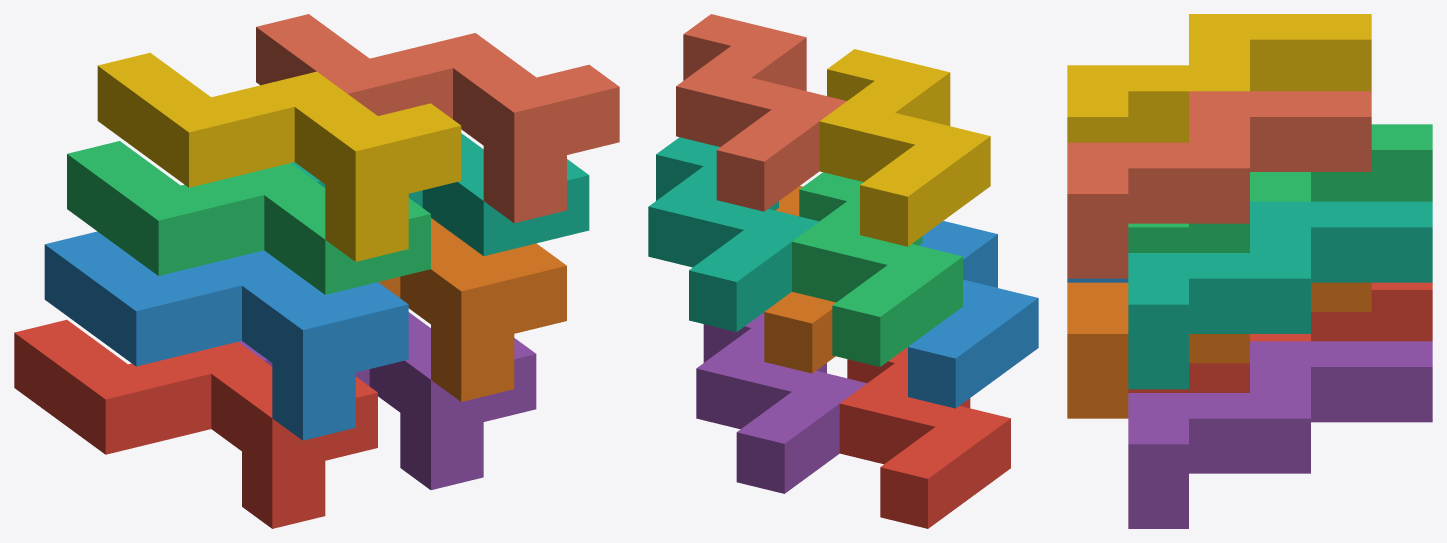
File: tiling.obj
The picture shows the model from 3 angles, left to right: view 1: azimuth 30°, elevation 25°; view 2: azimuth 150°, elevation 25°; view 3: azimuth 270°, elevation 25°; orthographic projection. The views are drawn at different scales.
Parts seen in each view (by area): view 1: copy_1_domain_4, copy_1_domain_2, copy_1_domain_1, copy_1_domain_8, copy_1_domain_3, copy_1_domain_6, copy_1_domain_5, copy_1_domain_7; view 2: copy_1_domain_4, copy_1_domain_8, copy_1_domain_3, copy_1_domain_1, copy_1_domain_7, copy_1_domain_5, copy_1_domain_2, copy_1_domain_6; view 3: copy_1_domain_7, copy_1_domain_8, copy_1_domain_5, copy_1_domain_4, copy_1_domain_6, copy_1_domain_3, copy_1_domain_1.
Part boxes in pixels (box(x1,y1,x2,y2)): copy_1_domain_4: box(97, 52, 461, 261); copy_1_domain_2: box(44, 231, 408, 440); copy_1_domain_1: box(14, 319, 377, 528); copy_1_domain_8: box(256, 14, 619, 223); copy_1_domain_3: box(67, 141, 430, 294); copy_1_domain_6: box(378, 218, 566, 401); copy_1_domain_5: box(238, 312, 536, 489); copy_1_domain_7: box(291, 133, 589, 255); copy_1_domain_4: box(819, 49, 990, 246); copy_1_domain_8: box(676, 14, 846, 211); copy_1_domain_3: box(792, 172, 962, 366); copy_1_domain_1: box(839, 347, 1010, 528); copy_1_domain_7: box(648, 137, 819, 331); copy_1_domain_5: box(696, 312, 866, 493); copy_1_domain_2: box(908, 221, 1038, 408); copy_1_domain_6: box(764, 186, 835, 373); copy_1_domain_7: box(1128, 201, 1432, 389); copy_1_domain_8: box(1067, 91, 1371, 278); copy_1_domain_5: box(1128, 341, 1432, 528); copy_1_domain_4: box(1067, 14, 1371, 142); copy_1_domain_6: box(1067, 282, 1371, 418); copy_1_domain_3: box(1128, 124, 1432, 252); copy_1_domain_1: box(1128, 282, 1432, 392).
Size of the model in its own units: 8 by 7 by 6.
